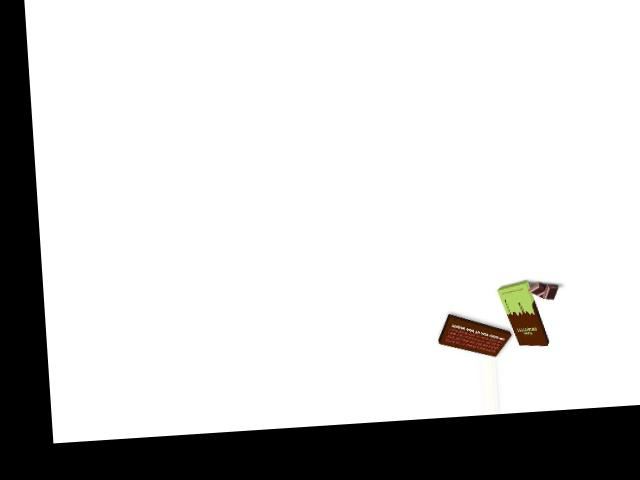chocolate: (500, 277, 544, 349)
